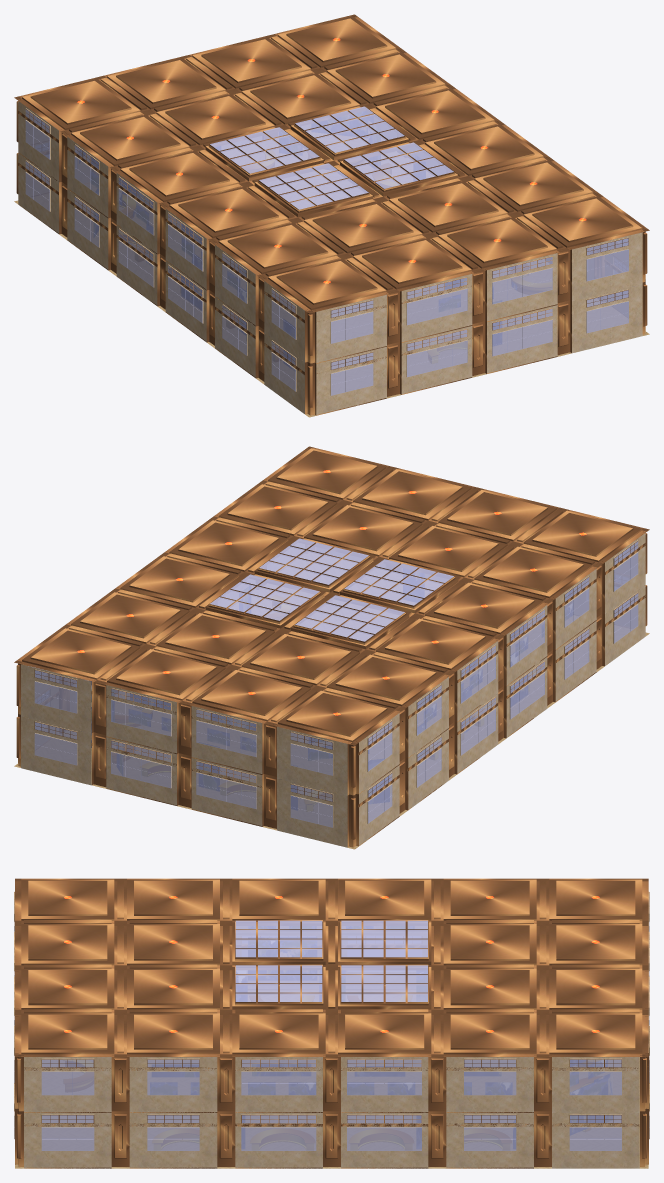
3 views of the same model, one above another, from view 1: azimuth 30°, elevation 25°; view 2: azimuth 150°, elevation 25°; view 3: azimuth 270°, elevation 25° (orthographic). The views are drawn at different scales.
Parts seen in each view (by area): view 1: Ceiling, Wall1, Wall2, AssetWall1, AssetWall2; view 2: Ceiling, Wall1, Wall2, AssetWall2, AssetWall1; view 3: Ceiling, Wall2, Wall1, AssetWall2, AssetWall1.
Boxes of the visible parts, x1,y1,x2,y2 form: Ceiling: (14, 14, 649, 313); Wall1: (16, 153, 647, 415); Wall2: (16, 16, 647, 363); AssetWall1: (18, 111, 571, 323); AssetWall2: (18, 163, 571, 375); Ceiling: (14, 446, 649, 745); Wall1: (16, 585, 647, 847); Wall2: (16, 448, 647, 795); AssetWall2: (77, 595, 645, 807); AssetWall1: (24, 543, 645, 755); Ceiling: (15, 878, 648, 1056); Wall2: (14, 891, 649, 1112); Wall1: (14, 1044, 649, 1168); AssetWall2: (24, 1123, 639, 1126); AssetWall1: (24, 1067, 637, 1070).
Size of the model in its own units: 32.34 by 10.27 by 48.44.
Materials: 14 (13 with a texture image).
